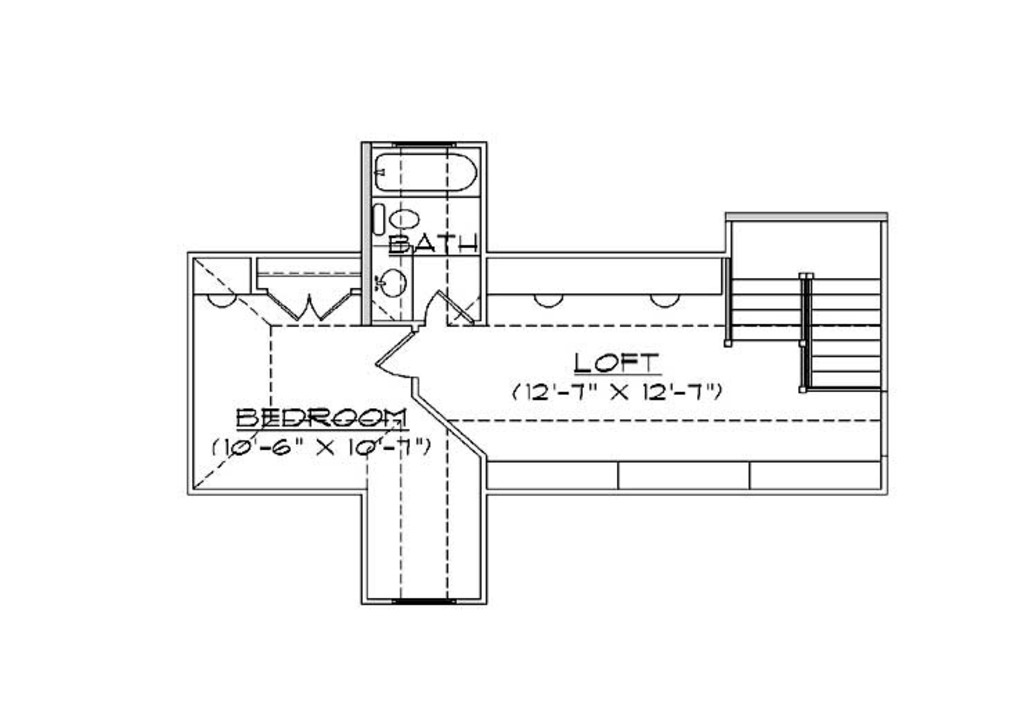door: (260, 277, 360, 319), (370, 322, 420, 377), (422, 288, 479, 328)
large_sink: (370, 198, 421, 239)
small_sink: (368, 263, 414, 314)
stairs: (729, 264, 880, 393)
tub: (372, 151, 482, 195)
window: (393, 596, 466, 610)
